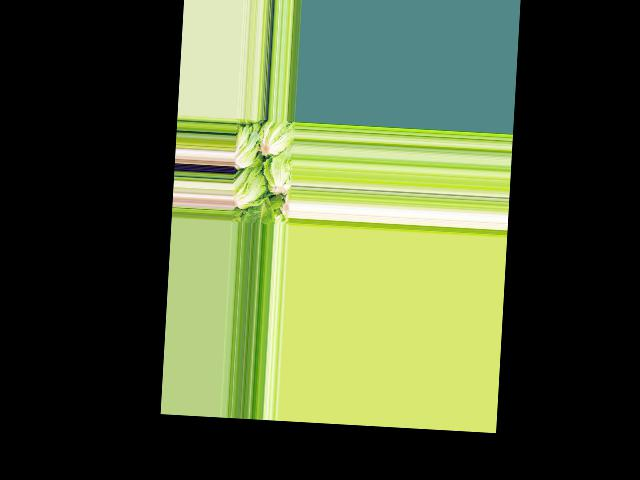lettuce: (250, 199, 276, 225)
